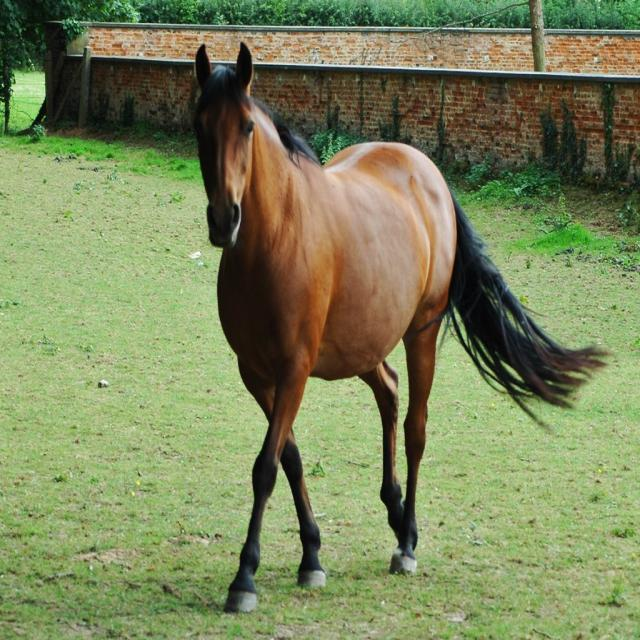Horse: (189, 39, 616, 613)
